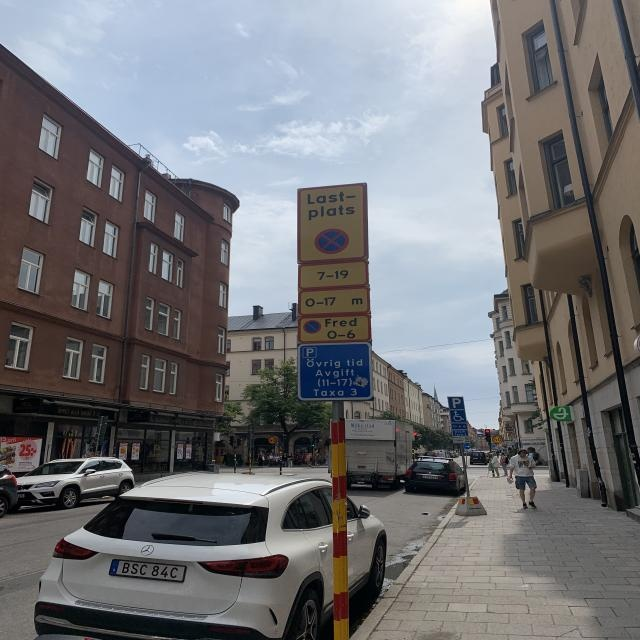lastplats: (296, 181, 370, 265)
